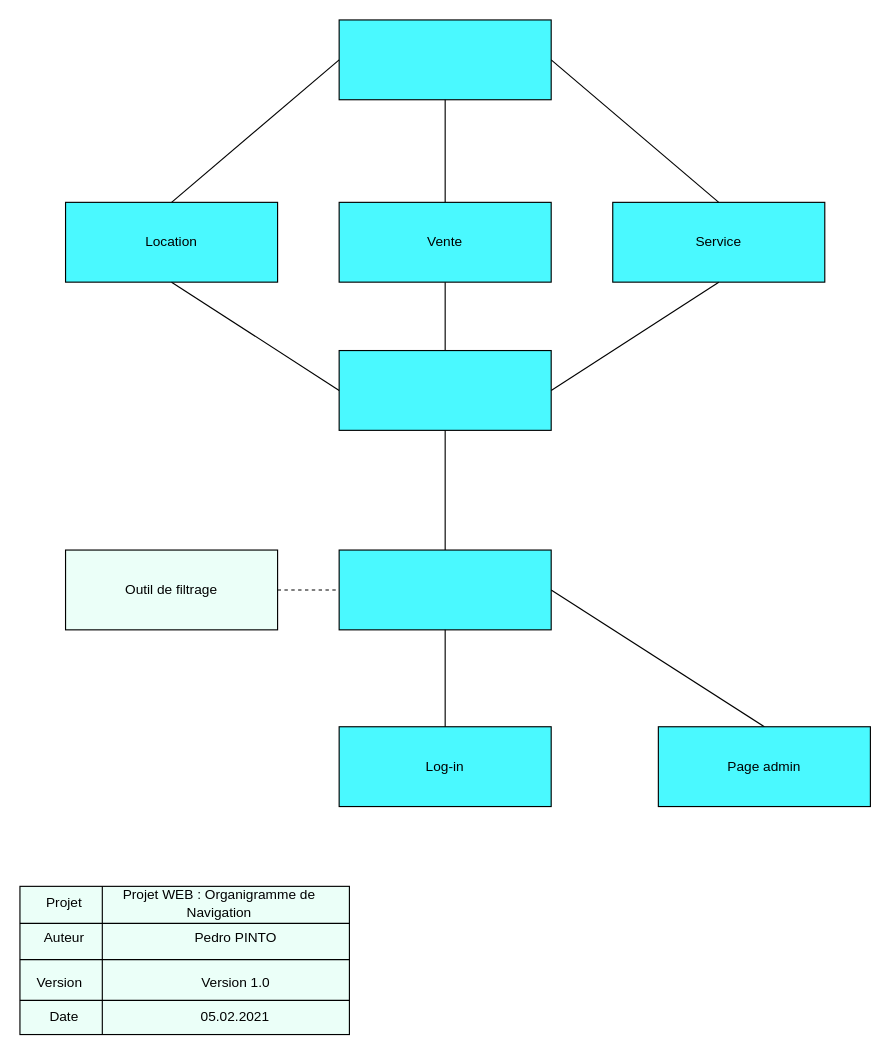
Some shapes in this 890 by 1056 pixel diagram are drawn without their labels. The centre of each missing label's shape, as x and y in pixels:
"Accueil" goes at pixel 444 589.
"Contacter" goes at pixel 444 59.
"Vignettes" goes at pixel 444 389.
